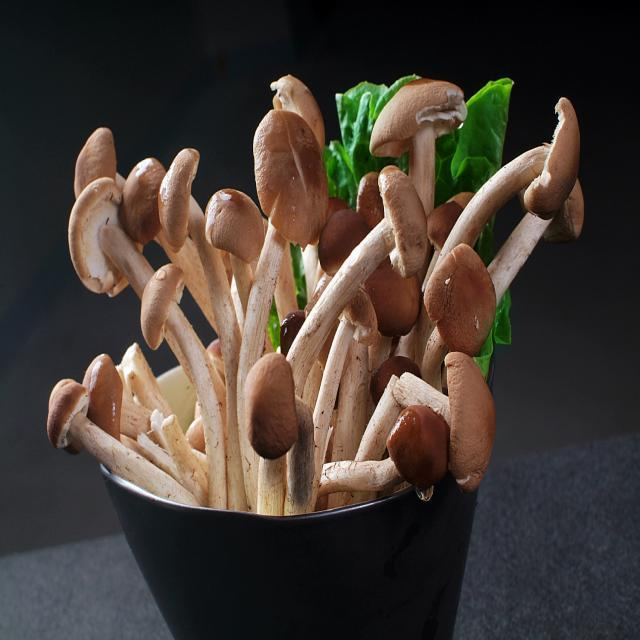Agrocybe aegerita: (47, 71, 585, 505)
